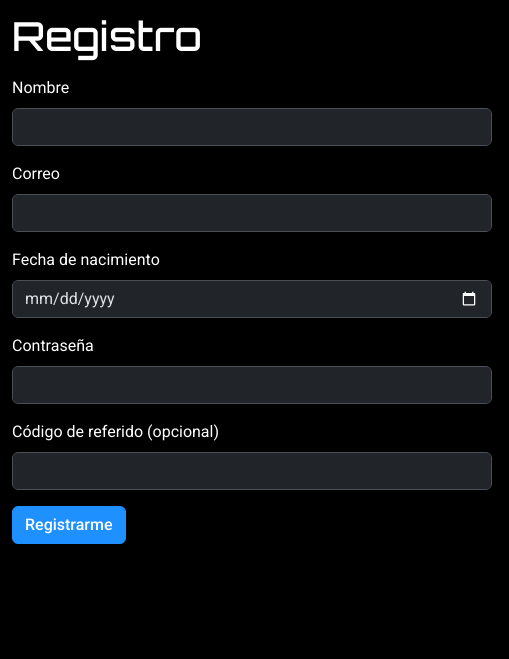
Scenario: confirma el descuento con un correo Duoc válido
Type "Ana" into the field labelled "Nombre" at (252, 127), box [12,108,492,146]
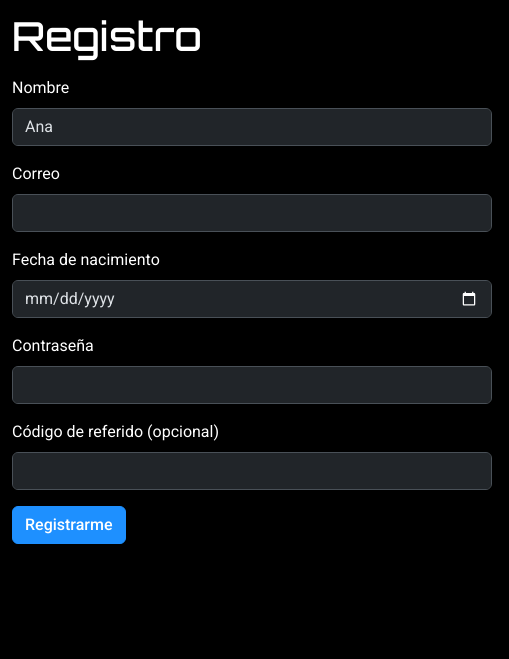
Type "ana@duocuc.cl" into the field labelled "Correo" at (252, 213), box [12,194,492,232]
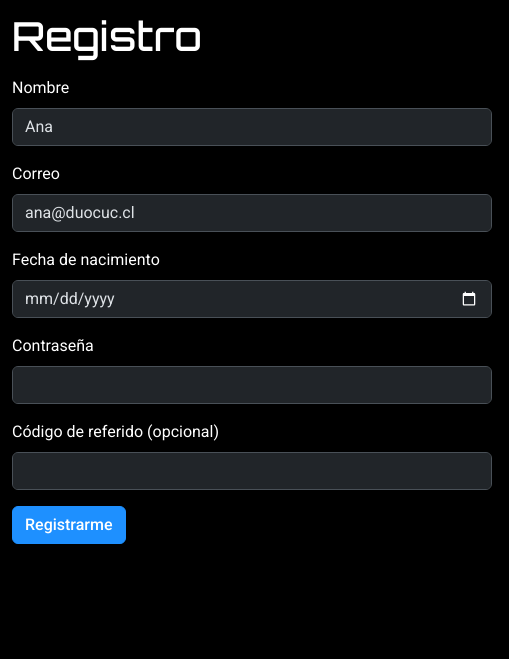
Type "2000-01-01" into the date field labelled "Fecha de nacimiento" at (252, 299), box [12,280,492,318]
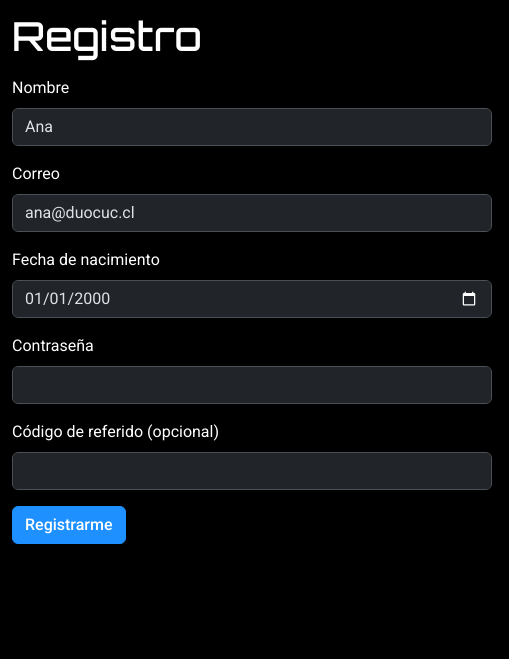
Type "secreta1" into the password field labelled "Contraseña" at (252, 385), box [12,366,492,404]
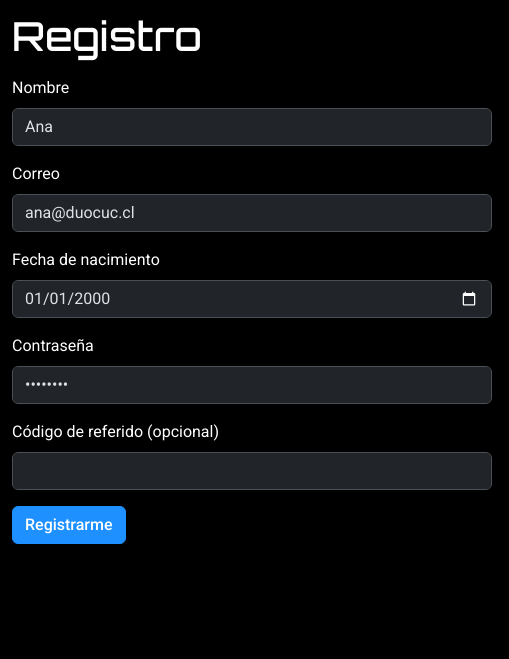
Click the button "Registrarme" at (69, 525), box [12,506,126,544]
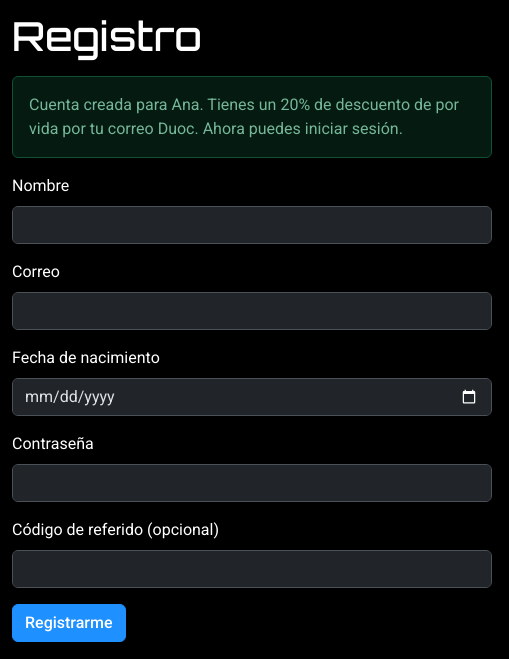
expect the text "20% de descuento de por vida" is shown: met, box [29,95,459,138]
